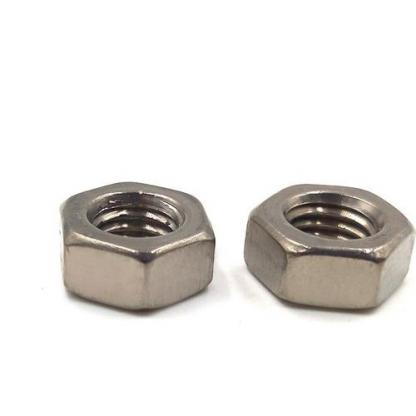FOD: (243, 179, 415, 316), (52, 181, 218, 312)
